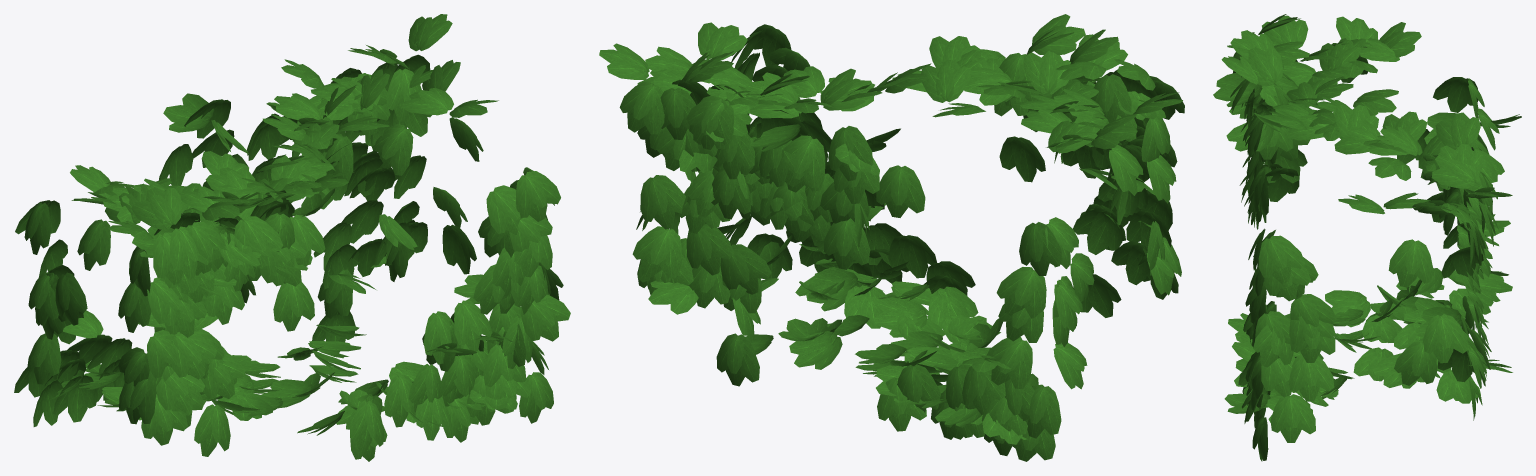
Rendered from walkway_veg_1.obj.
3 renders of one model, left to right at view 1: azimuth 30°, elevation 25°; view 2: azimuth 150°, elevation 25°; view 3: azimuth 270°, elevation 25°, orthographic. The views are drawn at different scales.
Parts seen in each view (by area): view 1: walkway_veg_1; view 2: walkway_veg_1; view 3: walkway_veg_1.
Part boxes in pixels (x1,y1,x2,y2): walkway_veg_1: (14, 14, 570, 461); walkway_veg_1: (599, 14, 1184, 461); walkway_veg_1: (1213, 14, 1521, 461).
Bounding box in the file's own units: 23.36 × 15.47 × 15.11.
